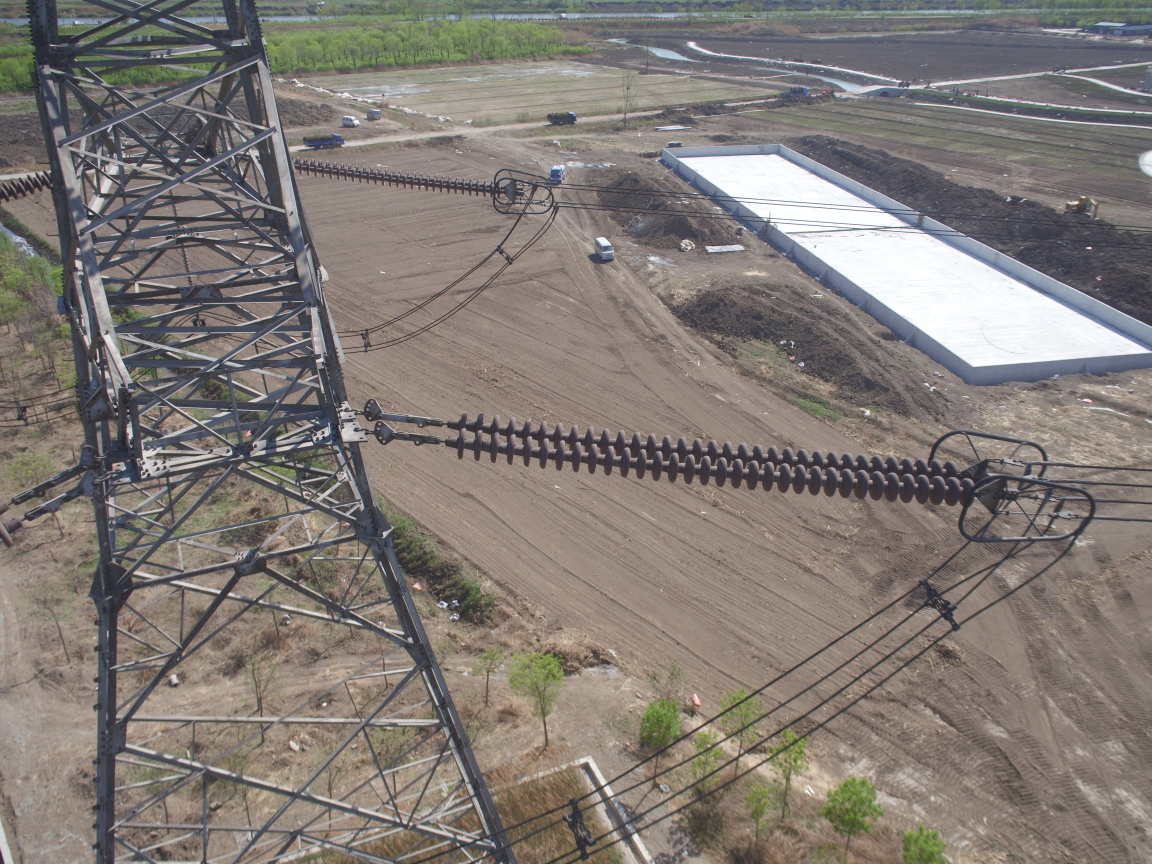insulator: (414, 410, 987, 511), (286, 156, 516, 199)
